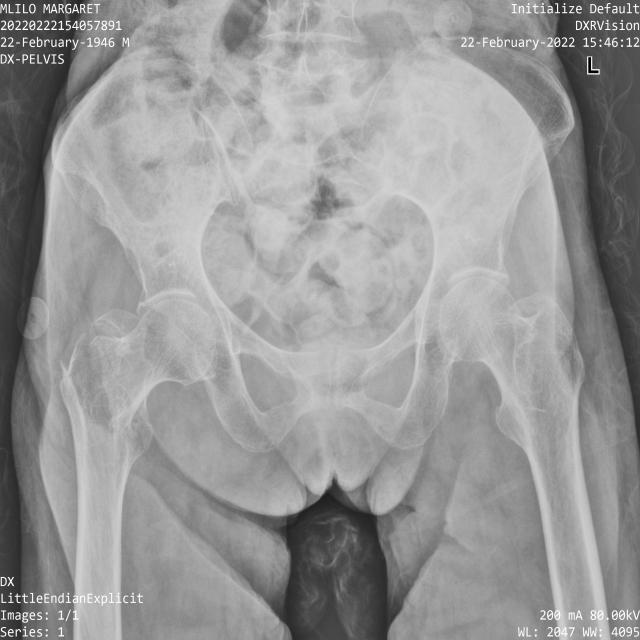normal-left: (439, 277, 592, 526)
right-intertrochanteric: (90, 298, 217, 483), (60, 334, 125, 549)
